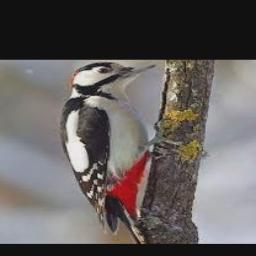Woodpecker: (59, 62, 175, 244)
